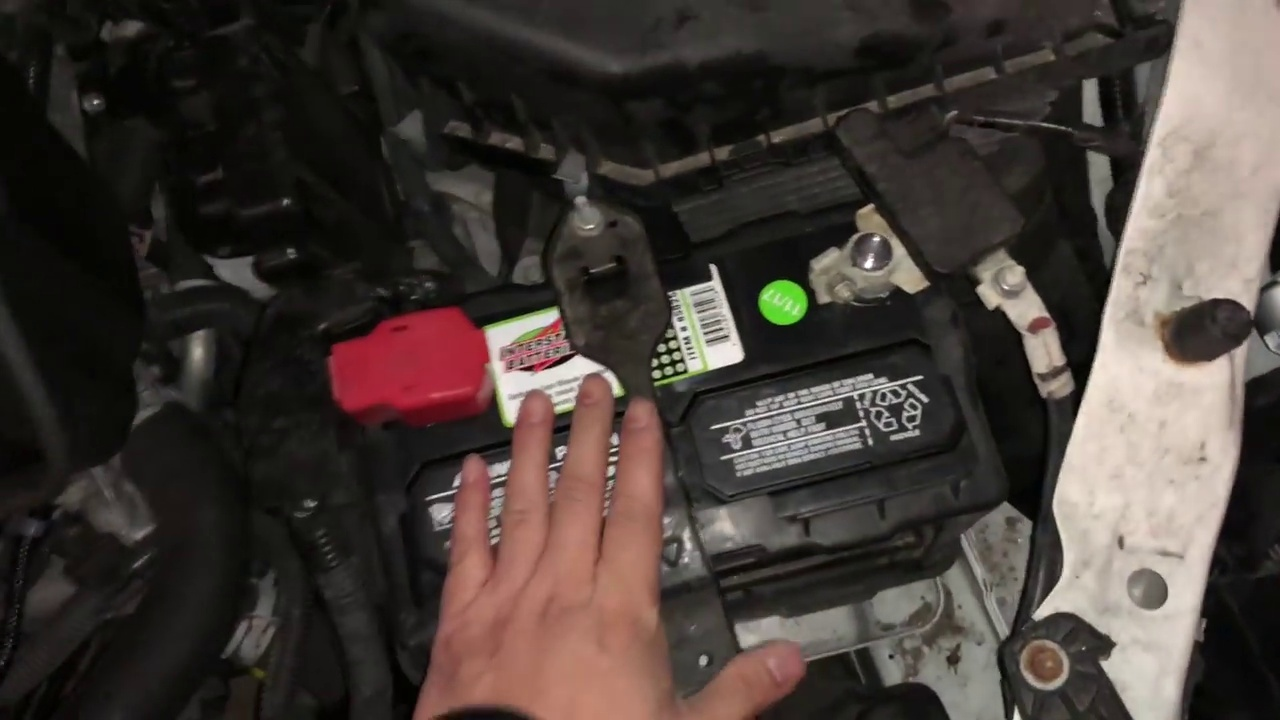battery: (374, 207, 990, 576)
neg_connected: (790, 198, 979, 337)
pos_connected: (330, 286, 507, 430)
